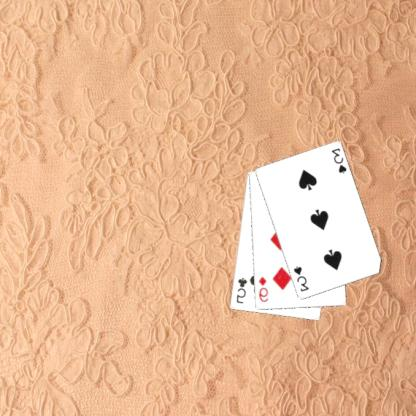3S: (330, 146, 350, 176), (292, 264, 312, 293)
5C: (235, 275, 250, 305)
6D: (258, 274, 271, 304)
